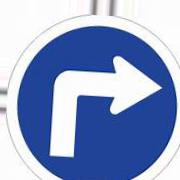right: (6, 16, 180, 180)
